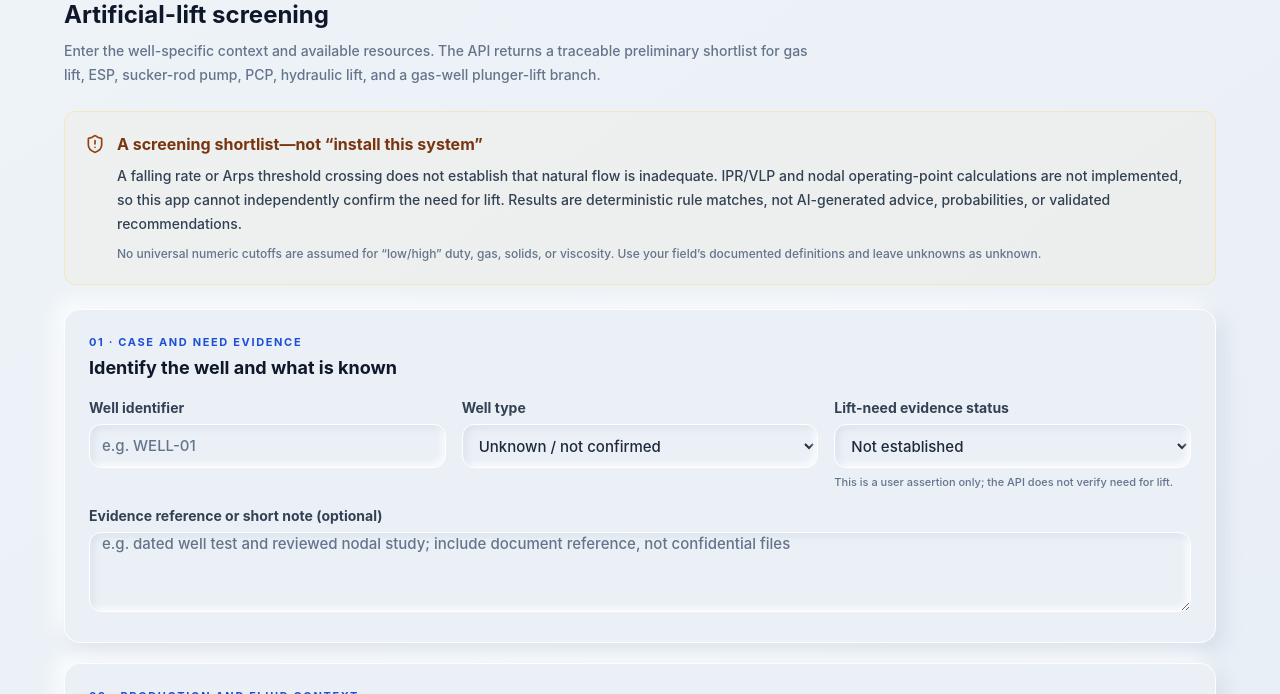
Test: ArtificialLiftPage › submits explicit inputs to the API and displays the returned conditional candidate
Select "Gas well" in the dropdown labelled "Well type" at (640, 446), box [462,424,818,468]
(page scrolled)
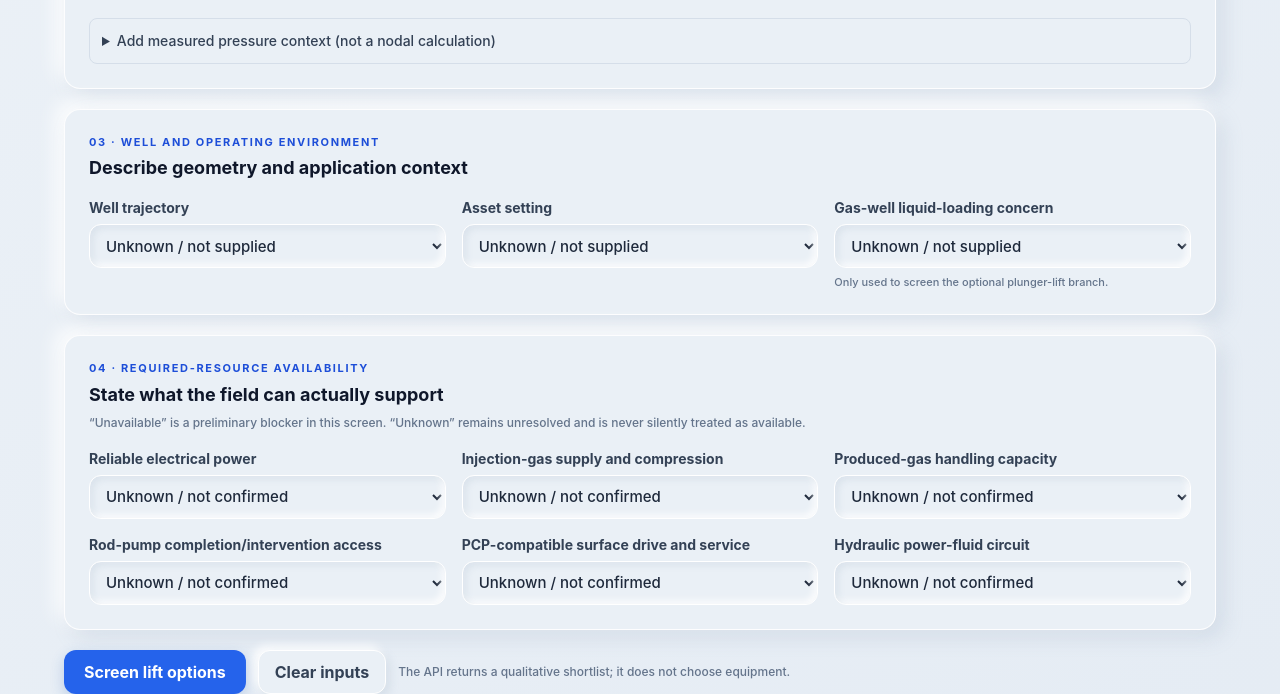
Select "Available" in the dropdown labelled "Injection-gas supply and compression" at (640, 496), box [462,474,818,518]
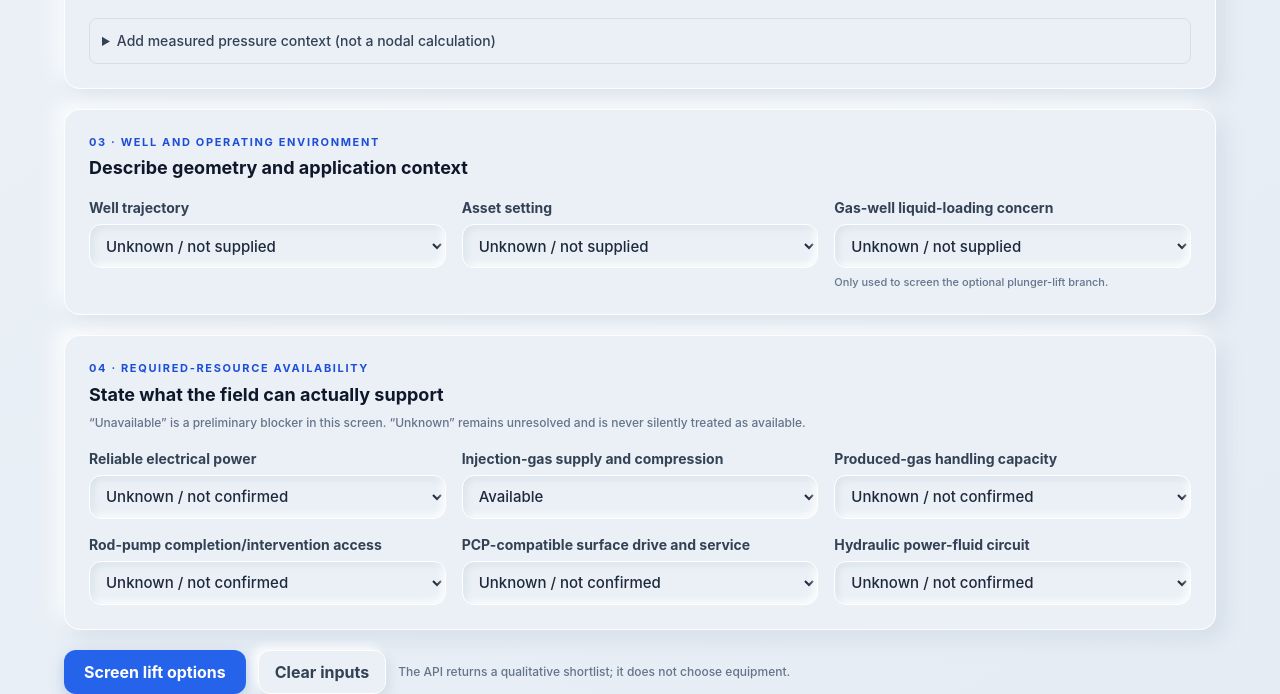
Select "Yes · evidence available" in the dropdown labelled "Gas-well liquid-loading concern" at (1013, 246), box [834,224,1191,268]
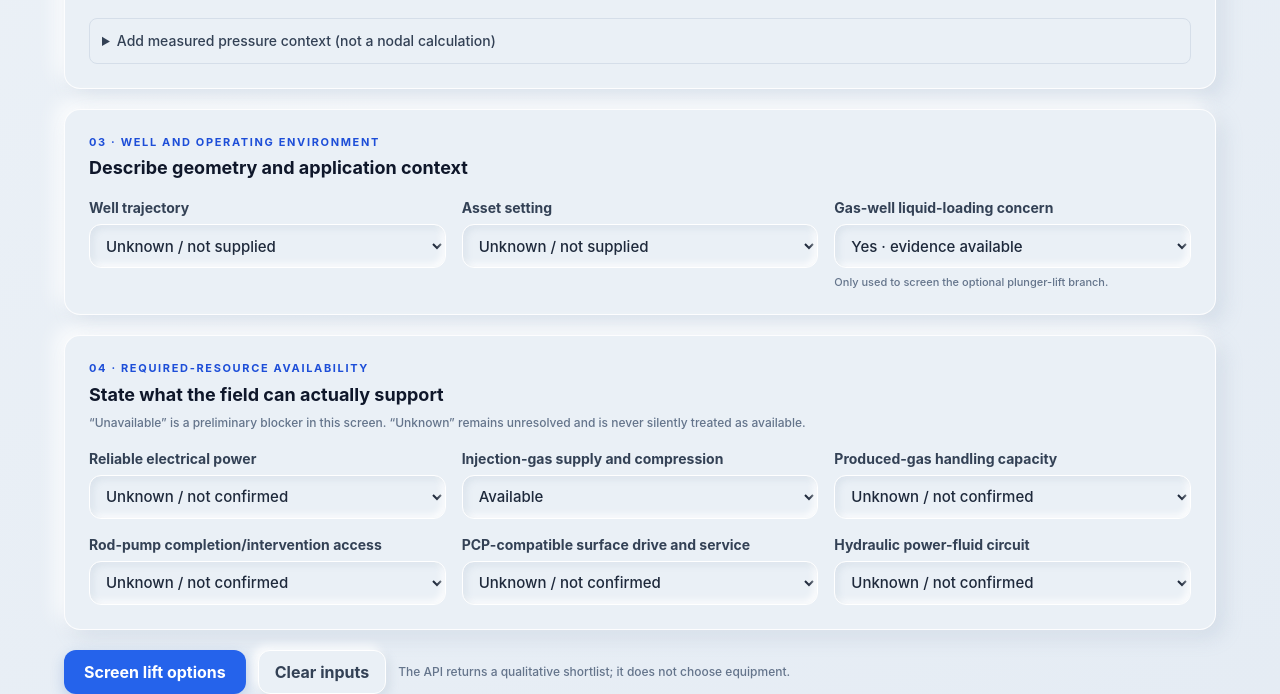
Click the button "Screen lift options".
click(155, 672)  # box [64,650,246,693]
(page scrolled)
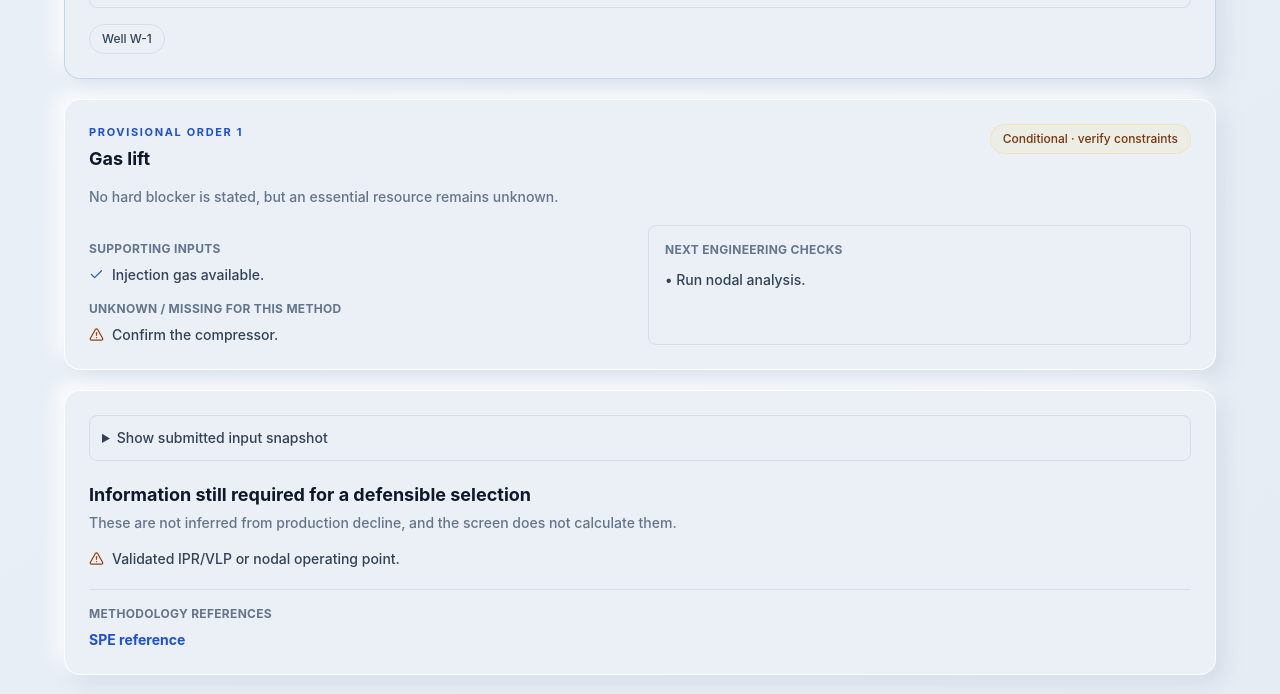
Check: the heading "Gas lift" is shown, box [89,148,150,168]
Check: the text "Confirm the compressor." is shown, box [112,324,278,344]
